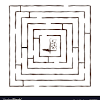maze: (9, 5, 91, 86)
